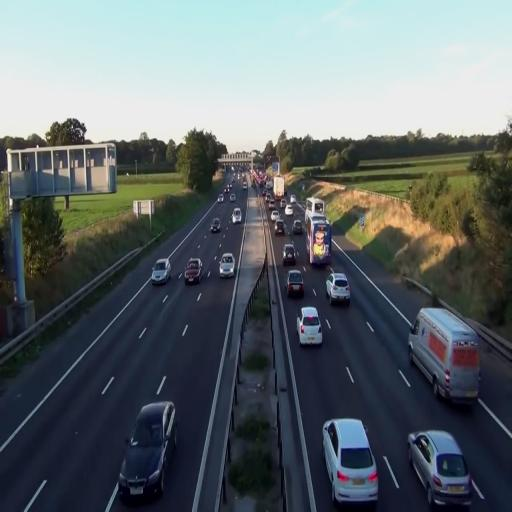vehicle: (408, 304, 480, 406), (118, 399, 176, 501), (321, 417, 379, 507), (407, 430, 473, 508), (306, 204, 332, 268), (297, 306, 323, 346), (326, 273, 351, 307), (286, 269, 305, 298), (151, 257, 171, 284), (184, 258, 203, 284), (219, 251, 235, 278), (282, 243, 298, 268), (292, 220, 306, 238), (275, 216, 285, 235), (232, 206, 242, 224), (211, 218, 220, 234)
